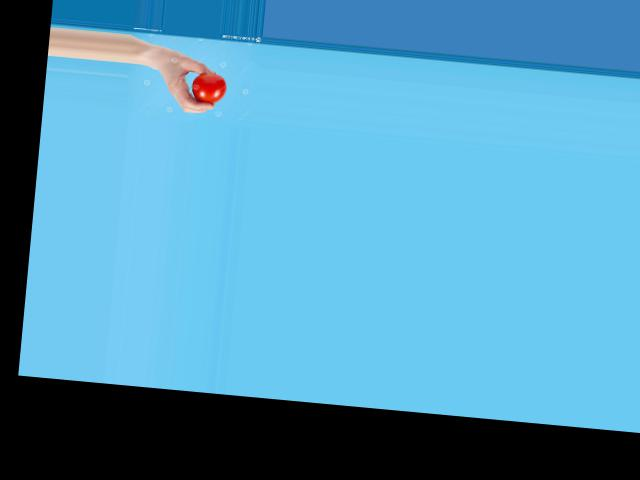tomato: (190, 72, 227, 104)
